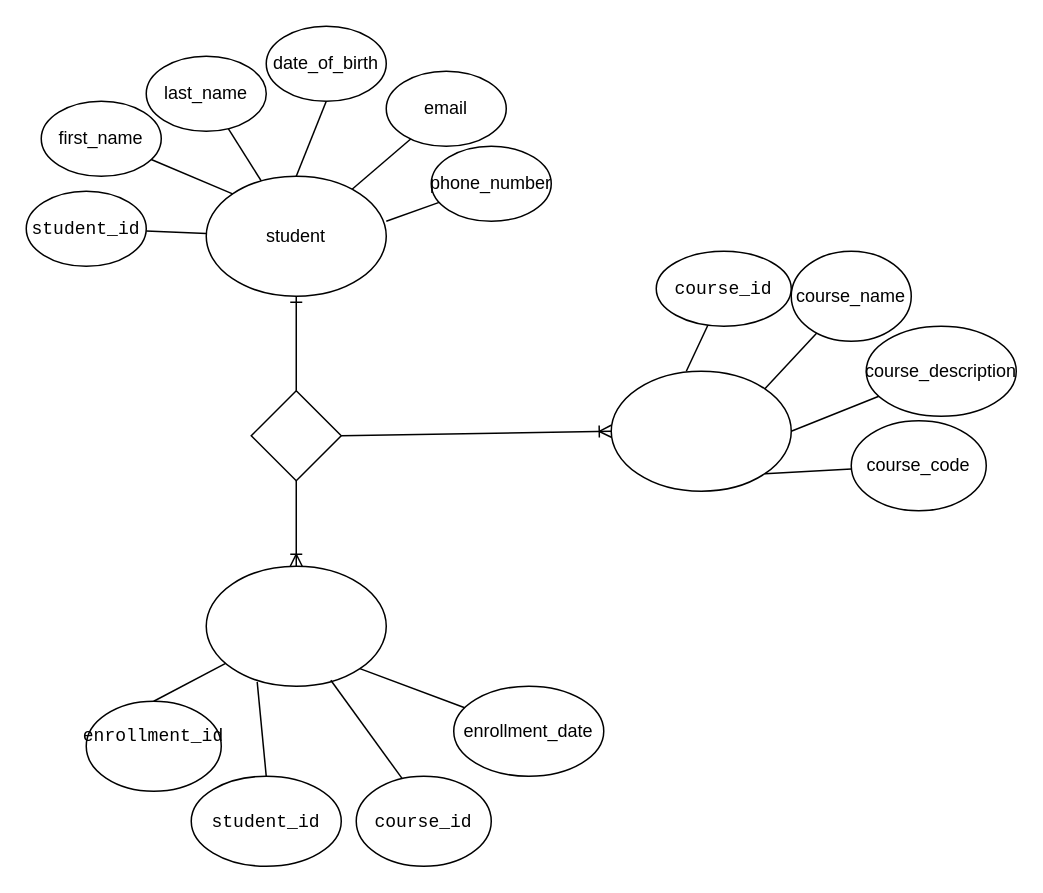
Image size: 1043x893. Some labels were removed from this diagram. The shapes that lost their labels are listed below. From the top down, each one's box as (x1, y1, x2, y2) in pixels, then its label:
(250, 389, 341, 481): can
(610, 370, 791, 491): course
(205, 565, 386, 686): enrollment
